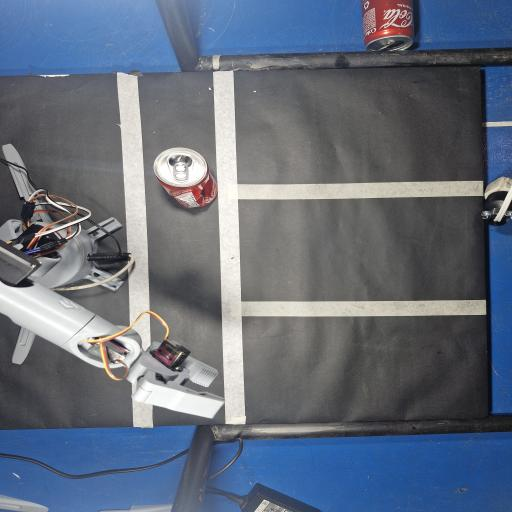lata_defectuoso: (154, 148, 216, 207)
